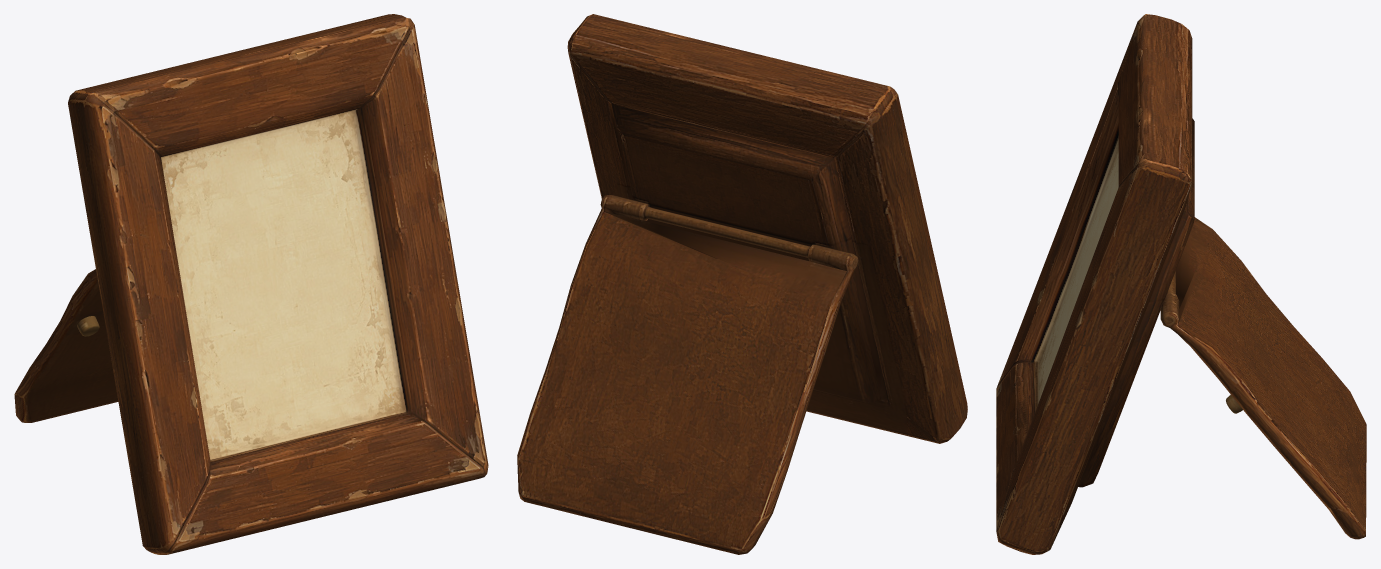
Rendered from P51_photo_frame_Runtime_1k.glb.
3 renders of one model, left to right at view 1: azimuth 30°, elevation 25°; view 2: azimuth 150°, elevation 25°; view 3: azimuth 270°, elevation 25°, orthographic. The views are drawn at different scales.
Parts seen in each view (by area): view 1: tripo_node_06cd1791; view 2: tripo_node_06cd1791; view 3: tripo_node_06cd1791.
Part boxes in pixels (bbox=[...]): tripo_node_06cd1791: bbox=[14, 14, 488, 554]; tripo_node_06cd1791: bbox=[517, 14, 967, 554]; tripo_node_06cd1791: bbox=[996, 14, 1366, 554].
Size of the model in its own units: 0.2073 by 0.25 by 0.2099.
1 material, 1 textured.
